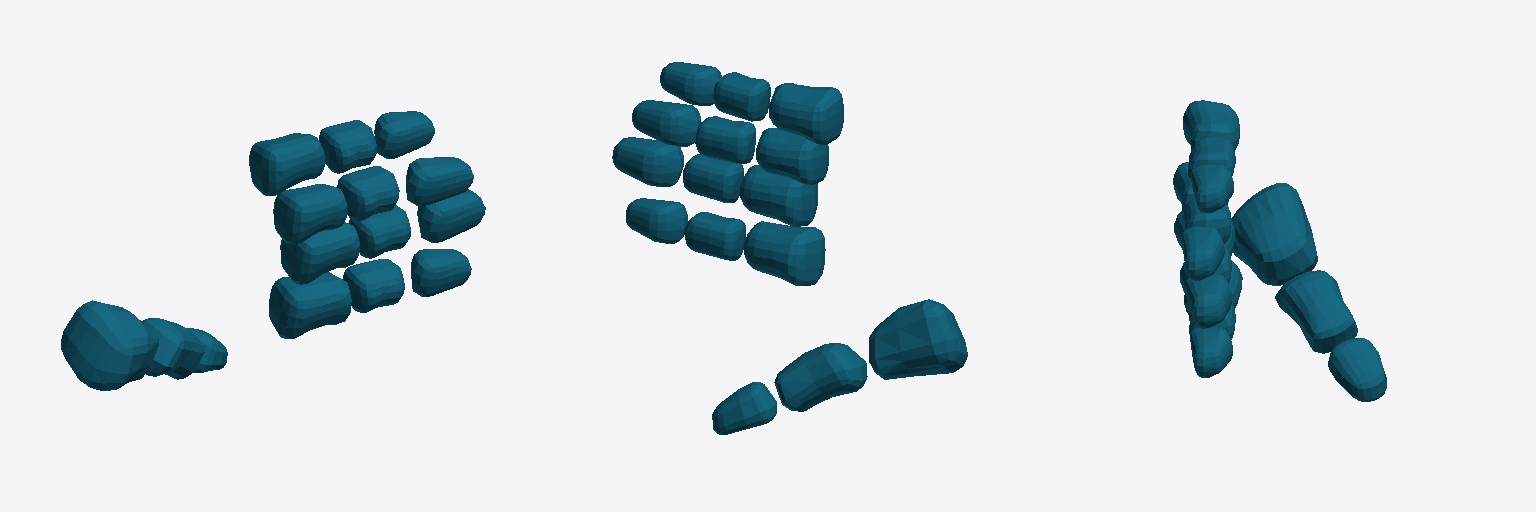
Rendered from fingers.obj.
3 views of the same model, side by side, from view 1: azimuth 30°, elevation 25°; view 2: azimuth 150°, elevation 25°; view 3: azimuth 270°, elevation 25° (orthographic).
Parts seen in each view (by area): view 1: polySurface51 Alpha_Mesh_LOW1 Alpha_Mesh_LOW, Alpha_Mesh_LOW1 Alpha_Mesh_LOW polySurface49, Alpha_Mesh_LOW1 Alpha_Mesh_LOW polySurface55, Alpha_Mesh_LOW1 Alpha_Mesh_LOW polySurface44, Alpha_Mesh_LOW1 Alpha_Mesh_LOW polySurface54, Alpha_Mesh_LOW1 Alpha_Mesh_LOW polySurface35, Alpha_Mesh_LOW1 Alpha_Mesh_LOW polySurface45, Alpha_Mesh_LOW1 Alpha_Mesh_LOW polySurface52, Alpha_Mesh_LOW1 Alpha_Mesh_LOW polySurface50, Alpha_Mesh_LOW1 Alpha_Mesh_LOW polySurface40, Alpha_Mesh_LOW1 Alpha_Mesh_LOW polySurface43, Alpha_Mesh_LOW1 Alpha_Mesh_LOW polySurface42 (+3 smaller); view 2: polySurface51 Alpha_Mesh_LOW1 Alpha_Mesh_LOW, Alpha_Mesh_LOW1 Alpha_Mesh_LOW polySurface52, Alpha_Mesh_LOW1 Alpha_Mesh_LOW polySurface49, Alpha_Mesh_LOW1 Alpha_Mesh_LOW polySurface55, Alpha_Mesh_LOW1 Alpha_Mesh_LOW polySurface54, Alpha_Mesh_LOW1 Alpha_Mesh_LOW polySurface44, Alpha_Mesh_LOW1 Alpha_Mesh_LOW polySurface40, Alpha_Mesh_LOW1 Alpha_Mesh_LOW polySurface35, Alpha_Mesh_LOW1 Alpha_Mesh_LOW polySurface36, Alpha_Mesh_LOW1 Alpha_Mesh_LOW polySurface50, Alpha_Mesh_LOW1 Alpha_Mesh_LOW polySurface45, Alpha_Mesh_LOW1 Alpha_Mesh_LOW polySurface43 (+3 smaller); view 3: polySurface51 Alpha_Mesh_LOW1 Alpha_Mesh_LOW, Alpha_Mesh_LOW1 Alpha_Mesh_LOW polySurface52, Alpha_Mesh_LOW1 Alpha_Mesh_LOW polySurface36, Alpha_Mesh_LOW1 Alpha_Mesh_LOW polySurface55, Alpha_Mesh_LOW1 Alpha_Mesh_LOW polySurface40, Alpha_Mesh_LOW1 Alpha_Mesh_LOW polySurface35, Alpha_Mesh_LOW1 Alpha_Mesh_LOW polySurface43, Alpha_Mesh_LOW1 Alpha_Mesh_LOW polySurface41, Alpha_Mesh_LOW1 Alpha_Mesh_LOW polySurface42, Alpha_Mesh_LOW1 Alpha_Mesh_LOW polySurface50, Alpha_Mesh_LOW1 Alpha_Mesh_LOW polySurface44, Alpha_Mesh_LOW1 Alpha_Mesh_LOW polySurface49.
Part boxes in pixels (x1,y1,x2,y2): polySurface51 Alpha_Mesh_LOW1 Alpha_Mesh_LOW: (61, 300, 158, 390); Alpha_Mesh_LOW1 Alpha_Mesh_LOW polySurface49: (269, 272, 351, 338); Alpha_Mesh_LOW1 Alpha_Mesh_LOW polySurface55: (249, 133, 324, 195); Alpha_Mesh_LOW1 Alpha_Mesh_LOW polySurface44: (273, 184, 347, 244); Alpha_Mesh_LOW1 Alpha_Mesh_LOW polySurface54: (280, 222, 359, 284); Alpha_Mesh_LOW1 Alpha_Mesh_LOW polySurface35: (406, 157, 473, 205); Alpha_Mesh_LOW1 Alpha_Mesh_LOW polySurface45: (343, 259, 404, 312); Alpha_Mesh_LOW1 Alpha_Mesh_LOW polySurface52: (142, 318, 204, 379); Alpha_Mesh_LOW1 Alpha_Mesh_LOW polySurface50: (337, 166, 399, 220); Alpha_Mesh_LOW1 Alpha_Mesh_LOW polySurface40: (417, 189, 485, 242); Alpha_Mesh_LOW1 Alpha_Mesh_LOW polySurface43: (411, 249, 471, 296); Alpha_Mesh_LOW1 Alpha_Mesh_LOW polySurface42: (319, 120, 376, 173); polySurface51 Alpha_Mesh_LOW1 Alpha_Mesh_LOW: (869, 299, 967, 379); Alpha_Mesh_LOW1 Alpha_Mesh_LOW polySurface52: (774, 343, 867, 411); Alpha_Mesh_LOW1 Alpha_Mesh_LOW polySurface49: (744, 221, 825, 285); Alpha_Mesh_LOW1 Alpha_Mesh_LOW polySurface55: (769, 83, 843, 144); Alpha_Mesh_LOW1 Alpha_Mesh_LOW polySurface54: (740, 165, 817, 226); Alpha_Mesh_LOW1 Alpha_Mesh_LOW polySurface44: (756, 128, 828, 184); Alpha_Mesh_LOW1 Alpha_Mesh_LOW polySurface40: (612, 137, 683, 186); Alpha_Mesh_LOW1 Alpha_Mesh_LOW polySurface35: (632, 100, 701, 146); Alpha_Mesh_LOW1 Alpha_Mesh_LOW polySurface36: (712, 382, 776, 434); Alpha_Mesh_LOW1 Alpha_Mesh_LOW polySurface50: (695, 116, 755, 163); Alpha_Mesh_LOW1 Alpha_Mesh_LOW polySurface45: (685, 212, 745, 260); Alpha_Mesh_LOW1 Alpha_Mesh_LOW polySurface43: (626, 198, 687, 243); polySurface51 Alpha_Mesh_LOW1 Alpha_Mesh_LOW: (1232, 183, 1317, 285); Alpha_Mesh_LOW1 Alpha_Mesh_LOW polySurface52: (1275, 270, 1357, 353); Alpha_Mesh_LOW1 Alpha_Mesh_LOW polySurface36: (1328, 338, 1386, 401); Alpha_Mesh_LOW1 Alpha_Mesh_LOW polySurface55: (1183, 100, 1239, 151); Alpha_Mesh_LOW1 Alpha_Mesh_LOW polySurface40: (1185, 274, 1232, 328); Alpha_Mesh_LOW1 Alpha_Mesh_LOW polySurface35: (1182, 226, 1224, 280); Alpha_Mesh_LOW1 Alpha_Mesh_LOW polySurface43: (1190, 327, 1232, 377); Alpha_Mesh_LOW1 Alpha_Mesh_LOW polySurface41: (1191, 165, 1233, 212); Alpha_Mesh_LOW1 Alpha_Mesh_LOW polySurface42: (1188, 138, 1235, 178); Alpha_Mesh_LOW1 Alpha_Mesh_LOW polySurface50: (1183, 198, 1231, 243); Alpha_Mesh_LOW1 Alpha_Mesh_LOW polySurface44: (1173, 162, 1228, 212); Alpha_Mesh_LOW1 Alpha_Mesh_LOW polySurface49: (1180, 260, 1242, 314).
Size of the model in its own units: 20.69 by 15.02 by 10.13.